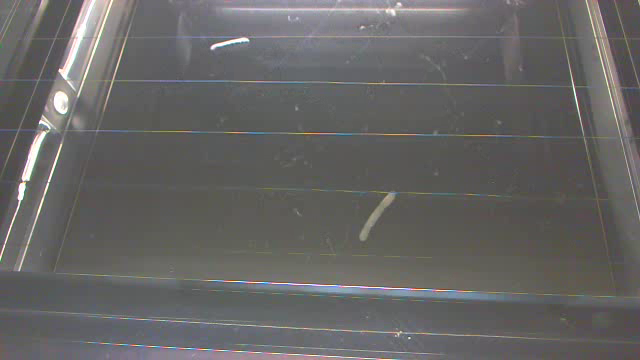Alfa: (354, 184, 403, 244), (212, 36, 250, 54)
